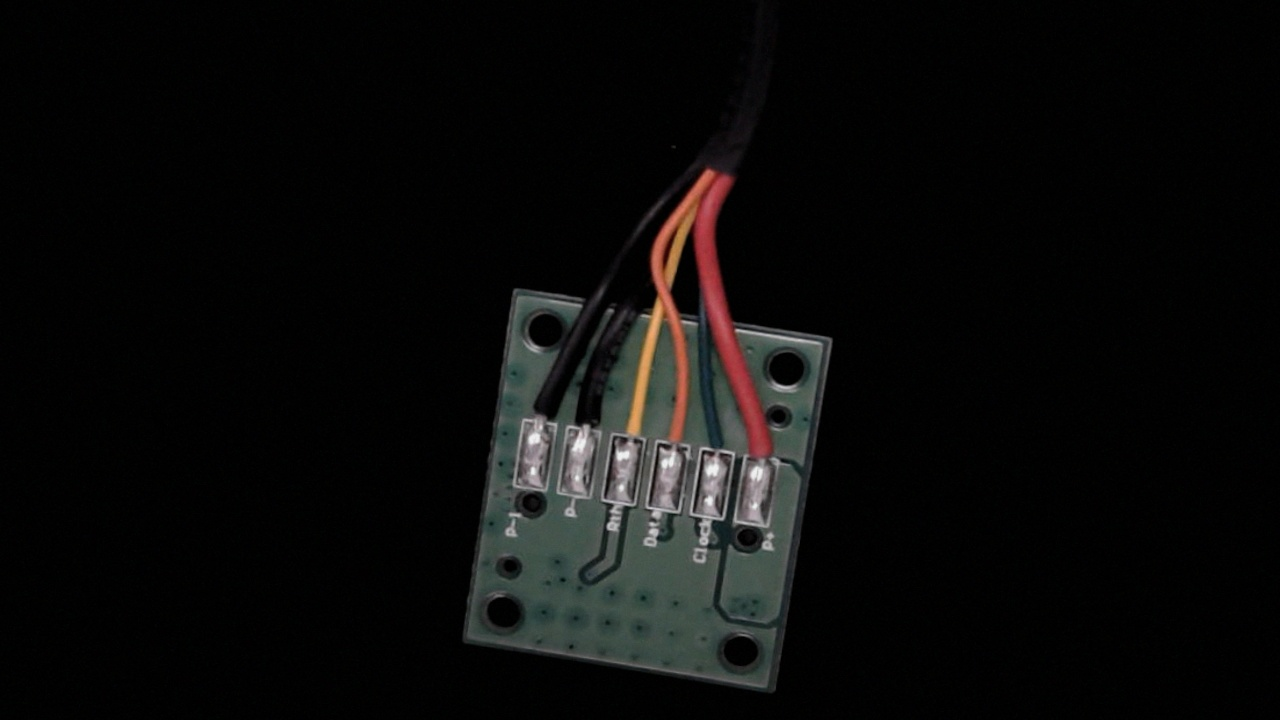Black: (565, 370, 611, 452)
Black1: (517, 362, 567, 441)
Green: (699, 399, 742, 469)
Orange: (650, 385, 699, 469)
Red: (739, 407, 785, 476)
Yellow: (608, 380, 656, 459)
